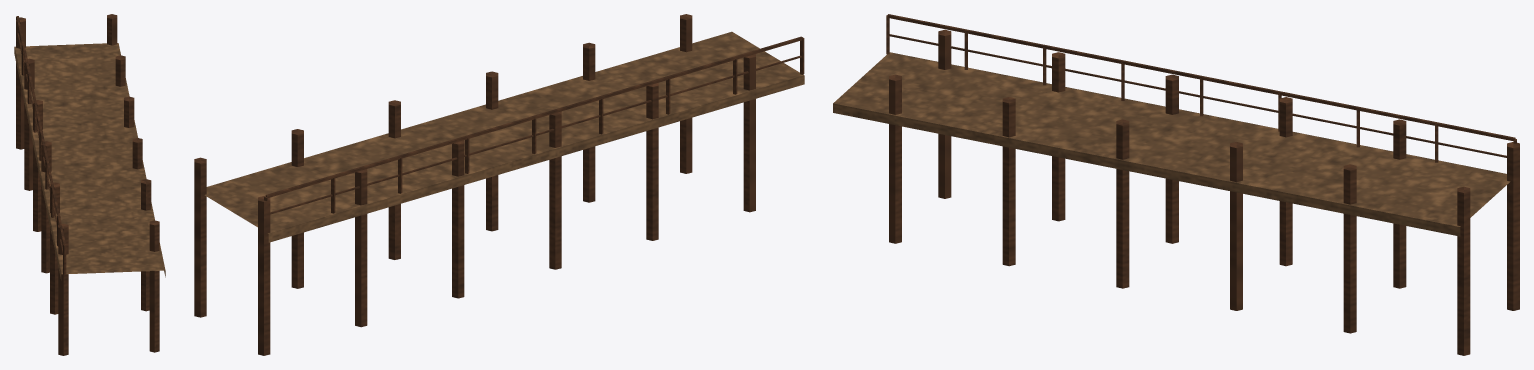
The model's file is Dock_MoonBoat_20.fbx.
3 views of the same model, side by side, from view 1: azimuth 30°, elevation 25°; view 2: azimuth 150°, elevation 25°; view 3: azimuth 270°, elevation 25° (orthographic). The views are drawn at different scales.
Visible parts, largest first — view 1: Deck, Piles, Railing; view 2: Deck, Piles, Railing; view 3: Deck, Piles, Railing.
Part boxes in pixels (box(x1,y1,x2,y2)): Deck: box(14, 43, 165, 280); Piles: box(16, 14, 159, 355); Railing: box(16, 16, 66, 274); Deck: box(204, 31, 804, 242); Piles: box(194, 14, 755, 355); Railing: box(264, 36, 804, 214); Deck: box(833, 52, 1510, 236); Piles: box(889, 29, 1519, 355); Railing: box(886, 14, 1516, 162).
Size of the model in its own units: 9.9 by 4.44 by 16.42.
